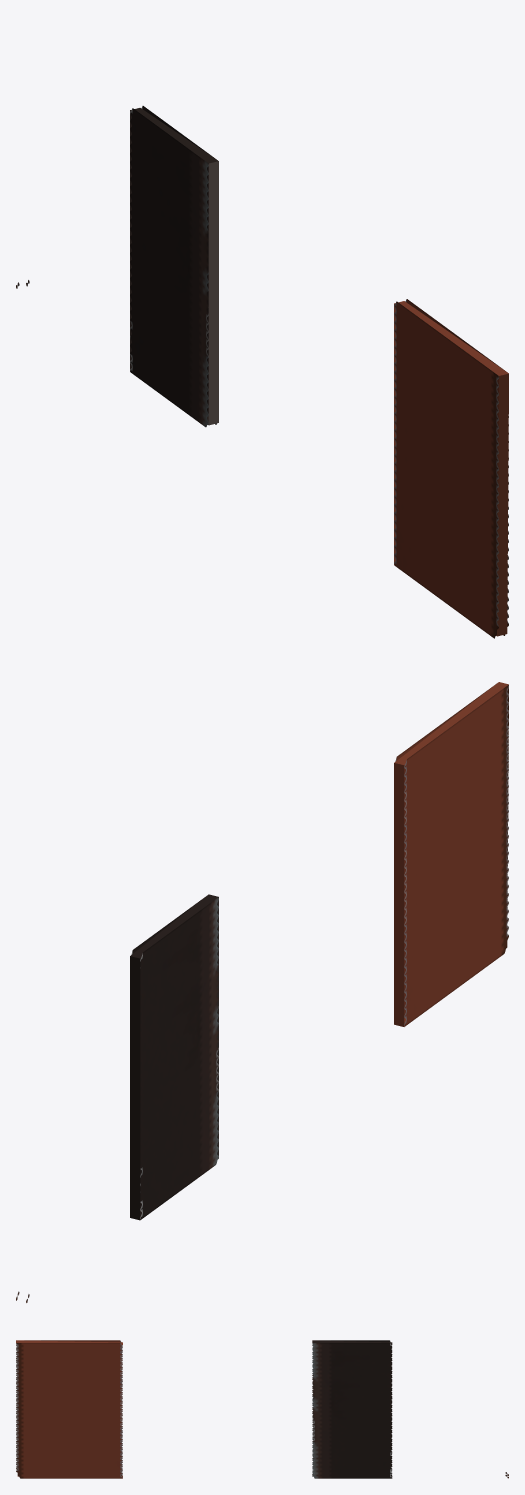
The model's file is pz_native_location_restaurant_seahorse_01_28_frame.obj.
3 renders of one model, top to bottom at view 1: azimuth 30°, elevation 25°; view 2: azimuth 150°, elevation 25°; view 3: azimuth 270°, elevation 25°, orthographic. The views are drawn at different scales.
Visible parts, largest first — view 1: pz_native_location_restaurant_seahorse_01_28_frame; view 2: pz_native_location_restaurant_seahorse_01_28_frame; view 3: pz_native_location_restaurant_seahorse_01_28_frame.
Boxes of the visible parts, x1,y1,x2,y2 form: pz_native_location_restaurant_seahorse_01_28_frame: [16, 106, 508, 638]; pz_native_location_restaurant_seahorse_01_28_frame: [16, 682, 508, 1302]; pz_native_location_restaurant_seahorse_01_28_frame: [16, 1340, 508, 1478].
Bounding box in the file's own units: 0.04 × 1.03 × 3.32.
Materials: 1 (1 with a texture image).
